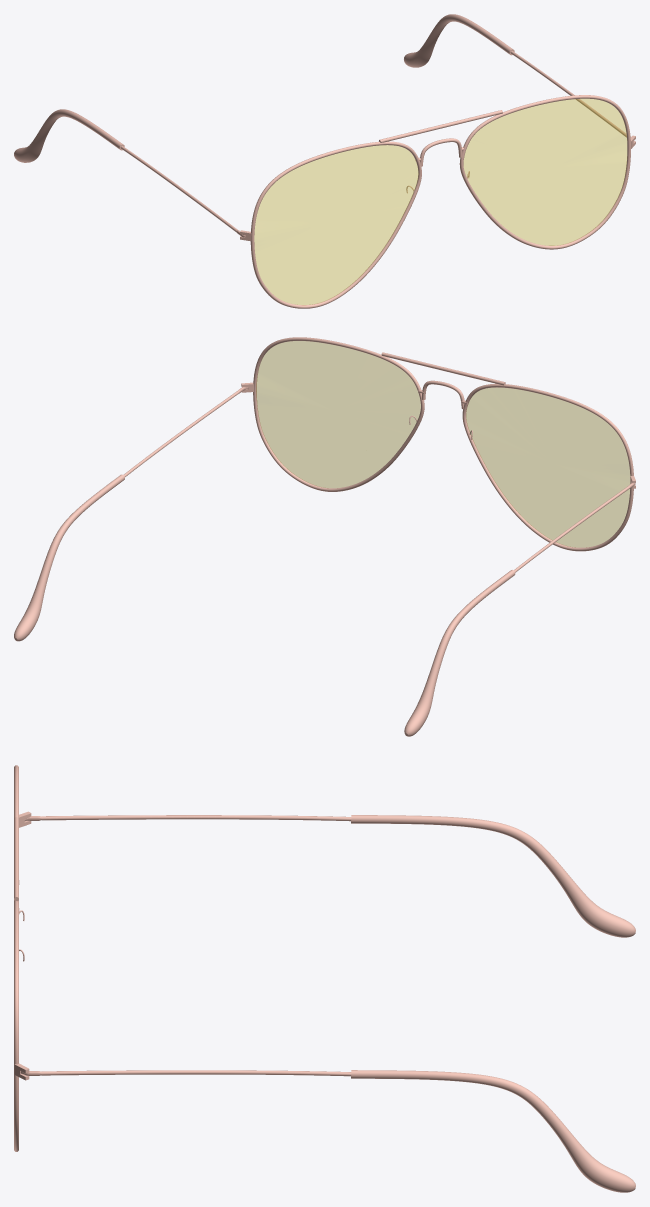
File: model_7_rose_gold.glb
3 views of the same model, one above another, from view 1: azimuth 30°, elevation 25°; view 2: azimuth 150°, elevation 25°; view 3: azimuth 270°, elevation 25° (orthographic). The views are drawn at different scales.
Parts seen in each view (by area): view 1: model_7_rosegold; view 2: model_7_rosegold; view 3: model_7_rosegold.
Part boxes in pixels (x1,y1,x2,y2): model_7_rosegold: (14,14,635,308); model_7_rosegold: (14,337,635,736); model_7_rosegold: (14,765,635,1192).
Size of the model in its own units: 2232 by 820 by 2228.
